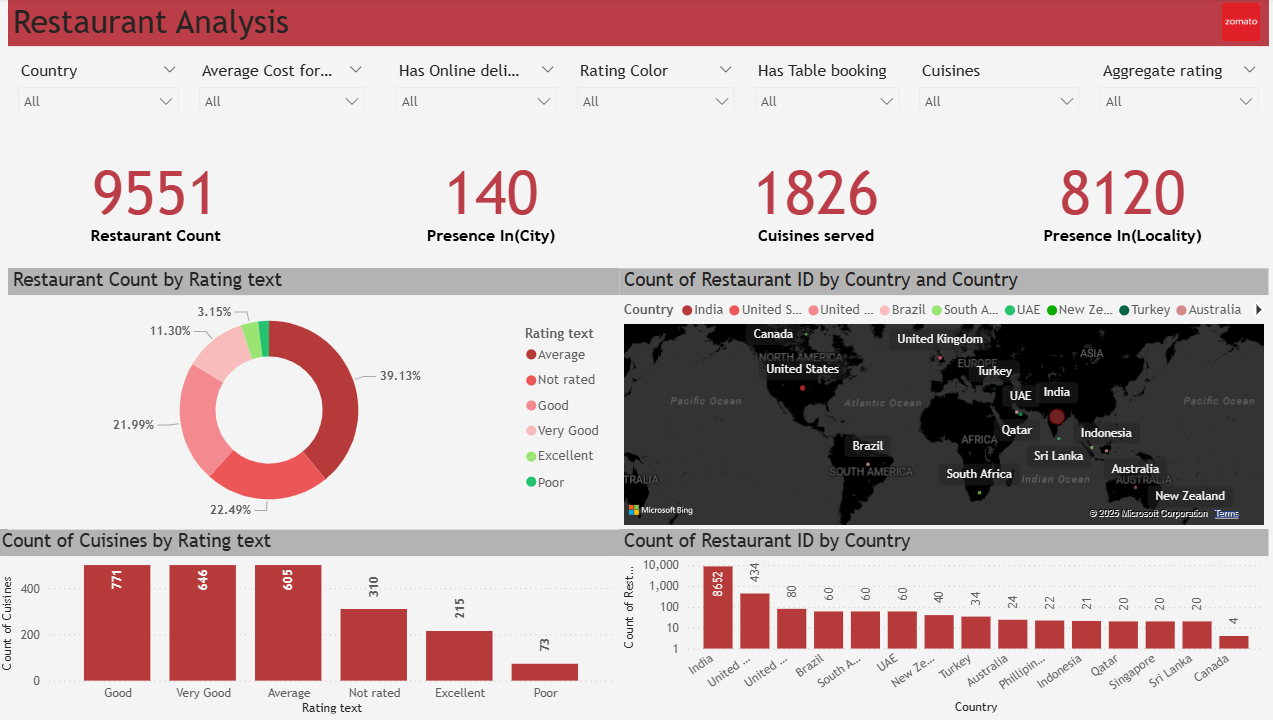

The dashboard page shown, as its layout file describes it:
{"tool":"powerbi","page":{"name":"Page 1","canvas":[1280,720],"ordinal":0},"visuals":[{"type":"slicer","fields":{"Values":["Country Master.Country"]},"box":[11.1,57.4,180.4,56.4],"z":0},{"type":"map","fields":{"Category":["Country Master.Country"],"Size":["CountNonNull(Zomato Global.Restaurant ID)"],"Series":["Country Master.Country"]},"box":[620.9,269.1,648.1,261],"z":1000},{"type":"card","fields":{"Values":["KPIs.Restaurant Count"]},"box":[0,128.7,316.3,140.7],"z":2000},{"type":"slicer","fields":{"Values":["KPIs.Rating Color"]},"box":[568.4,57.4,177.4,53.4],"z":3000},{"type":"columnChart","fields":{"Category":["KPIs.Rating text"],"Y":["Count(Zomato Global.Cuisines)"]},"box":[0,530.1,620.9,189.5],"z":4000},{"type":"slicer","fields":{"Values":["KPIs.Has Online delivery"]},"box":[388,57.4,180.4,53.4],"z":5000},{"type":"slicer","fields":{"Values":["KPIs.Has Table booking"]},"box":[745.8,57.4,164.3,53.4],"z":6000},{"type":"slicer","fields":{"Values":["Cuisines.Cuisines"]},"box":[910.1,57.4,180.4,53.4],"z":7000},{"type":"slicer","fields":{"Values":["KPIs.Aggregate rating"]},"box":[1090.5,57.4,178.4,53.4],"z":8000},{"type":"slicer","fields":{"Values":["KPIs.Average Cost for two"]},"box":[191.5,57.4,185.4,53.4],"z":9000},{"type":"textbox","box":[11.1,0,1257.8,48.4],"z":10000},{"type":"card","fields":{"Values":["Zomato Global.City Count"]},"box":[328.2,128.7,329.2,140.7],"z":11000},{"type":"card","fields":{"Values":["Zomato Global.Cuisines served"]},"box":[657.5,128.7,319.3,140.7],"z":12000},{"type":"donutChart","fields":{"Y":["KPIs.Restaurant Count"],"Category":["KPIs.Rating text"]},"box":[11.1,269.1,609.8,261],"z":14000},{"type":"clusteredColumnChart","fields":{"Category":["Country Master.Country"],"Y":["CountNonNull(Zomato Global.Restaurant ID)"]},"box":[620.9,530.1,648.1,188.5],"z":15000},{"type":"image","box":[1213.4,0,55.5,48.4],"z":16000},{"type":"card","fields":{"Values":["Zomato Global.Presence"]},"box":[976.7,128.7,292.3,140.7],"z":16001}]}

Visuals, with their boxes in screenshot pixels (x1, y1, x2, y2), scaled from the page's 1280x720 canvas onto the 1273x720 screenshot:
slicer - Country Master.Country: rect(11, 57, 190, 114)
map - Country Master.Country x CountNonNull(Zomato Global.Restaurant ID): rect(618, 269, 1262, 530)
card - KPIs.Restaurant Count: rect(0, 129, 315, 269)
slicer - KPIs.Rating Color: rect(565, 57, 742, 111)
columnChart - KPIs.Rating text x Count(Zomato Global.Cuisines): rect(0, 530, 618, 719)
slicer - KPIs.Has Online delivery: rect(386, 57, 565, 111)
slicer - KPIs.Has Table booking: rect(742, 57, 905, 111)
slicer - Cuisines.Cuisines: rect(905, 57, 1085, 111)
slicer - KPIs.Aggregate rating: rect(1085, 57, 1262, 111)
slicer - KPIs.Average Cost for two: rect(190, 57, 375, 111)
textbox: rect(11, 0, 1262, 48)
card - Zomato Global.City Count: rect(326, 129, 654, 269)
card - Zomato Global.Cuisines served: rect(654, 129, 971, 269)
donutChart - KPIs.Restaurant Count x KPIs.Rating text: rect(11, 269, 618, 530)
clusteredColumnChart - Country Master.Country x CountNonNull(Zomato Global.Restaurant ID): rect(618, 530, 1262, 719)
image: rect(1207, 0, 1262, 48)
card - Zomato Global.Presence: rect(971, 129, 1262, 269)
